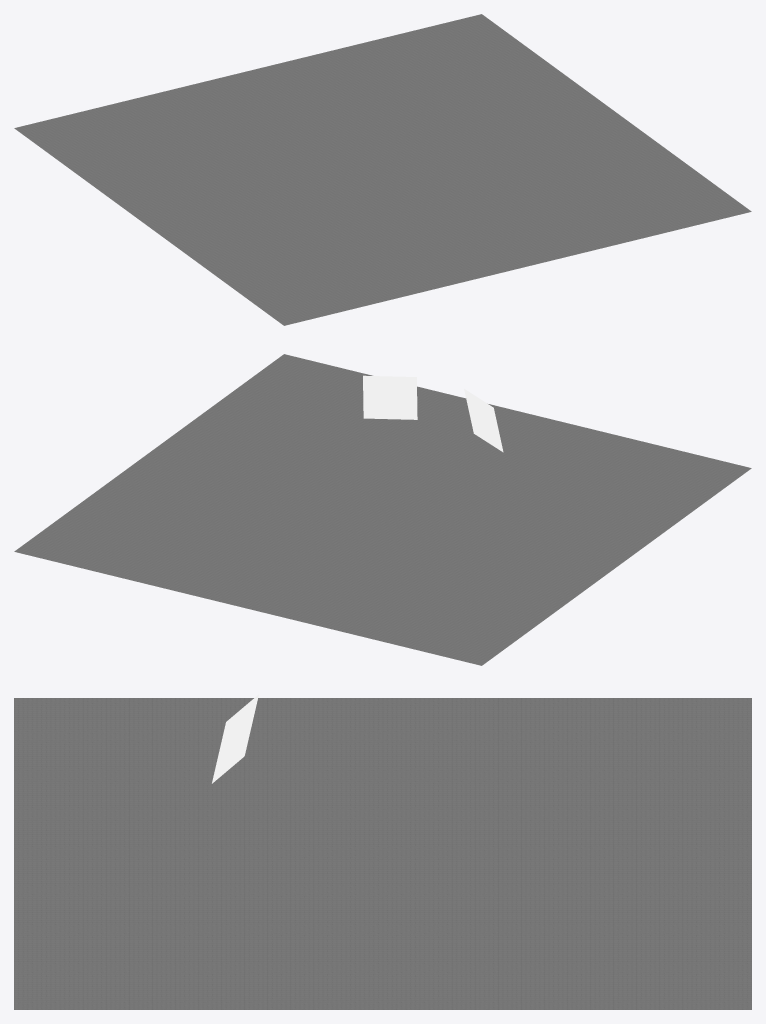
File: points_al.gltf
The picture shows the model from 3 angles, top to bottom: view 1: azimuth 30°, elevation 25°; view 2: azimuth 150°, elevation 25°; view 3: azimuth 270°, elevation 25°; orthographic projection. The views are drawn at different scales.
Visible parts, largest first — view 1: floor_matte_grid; view 2: floor_matte_grid, alight_light_area!2, alight_light_area; view 3: floor_matte_grid, alight_light_area.
Part boxes in pixels (x1=…): floor_matte_grid: x1=14, y1=14, x2=751, y2=325; floor_matte_grid: x1=14, y1=354, x2=751, y2=665; alight_light_area!2: x1=363, y1=375, x2=417, y2=419; alight_light_area: x1=464, y1=389, x2=503, y2=452; floor_matte_grid: x1=14, y1=698, x2=751, y2=1009; alight_light_area: x1=212, y1=694, x2=258, y2=783.
Bounding box in the file's own units: 40 × 6.95 × 40.
2 materials, 1 textured.
